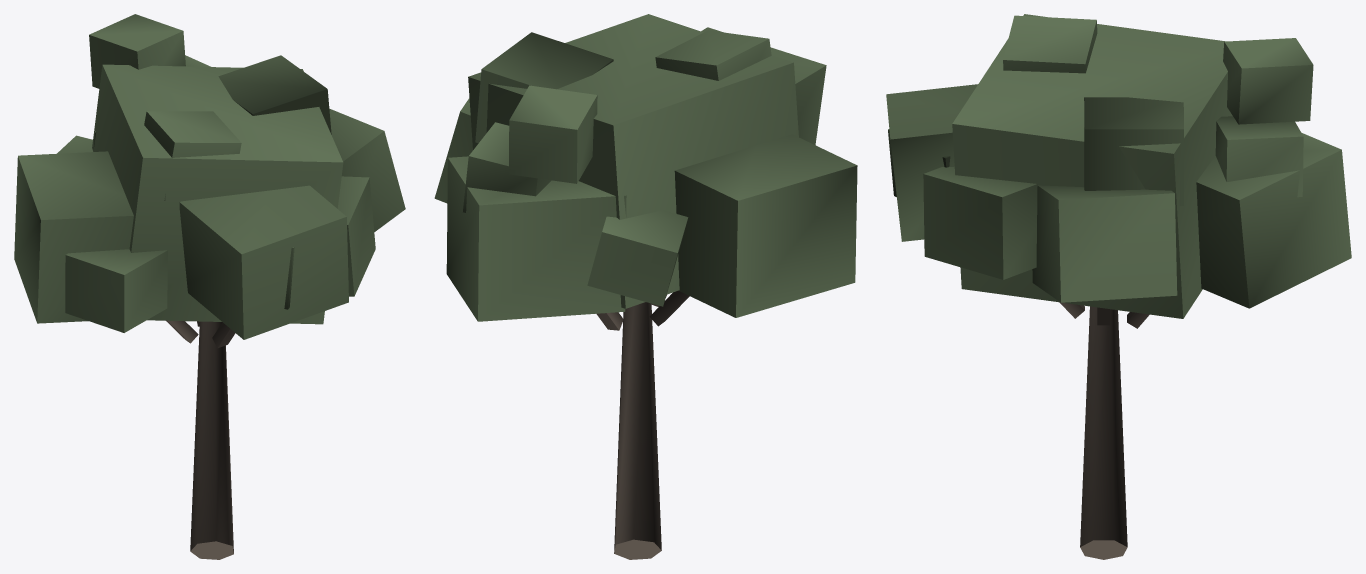
File: tree_broadleaf.lod1.glb
3 renders of one model, left to right at view 1: azimuth 30°, elevation 25°; view 2: azimuth 150°, elevation 25°; view 3: azimuth 270°, elevation 25°, orthographic. The views are drawn at different scales.
Parts seen in each view (by area): view 1: props_tree_broadleaf.lod1; view 2: props_tree_broadleaf.lod1; view 3: props_tree_broadleaf.lod1.
Part boxes in pixels (bbox=[...]): props_tree_broadleaf.lod1: bbox=[14, 14, 405, 559]; props_tree_broadleaf.lod1: bbox=[434, 14, 857, 559]; props_tree_broadleaf.lod1: bbox=[886, 14, 1351, 559].
Size of the model in its own units: 4.77 by 5.87 by 4.96.
